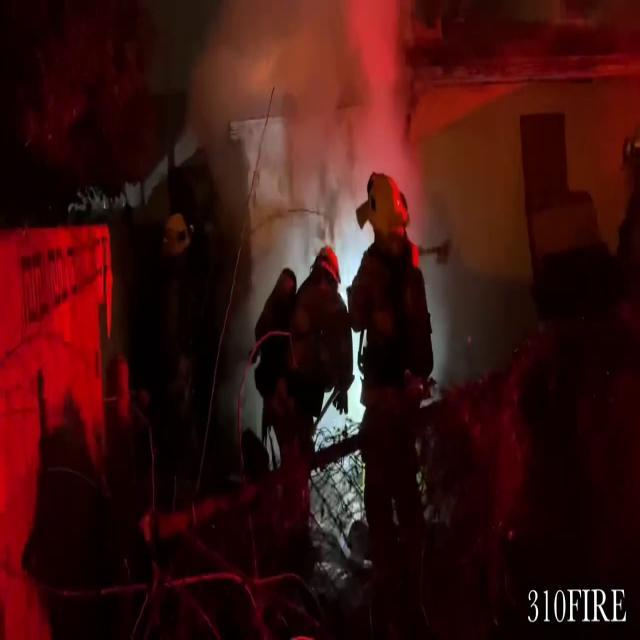Smoke: (185, 0, 470, 254)
